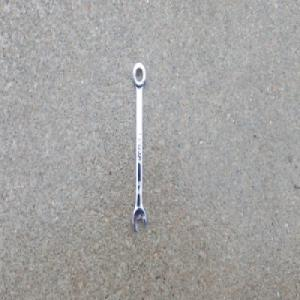Wrench: (131, 60, 146, 232)
